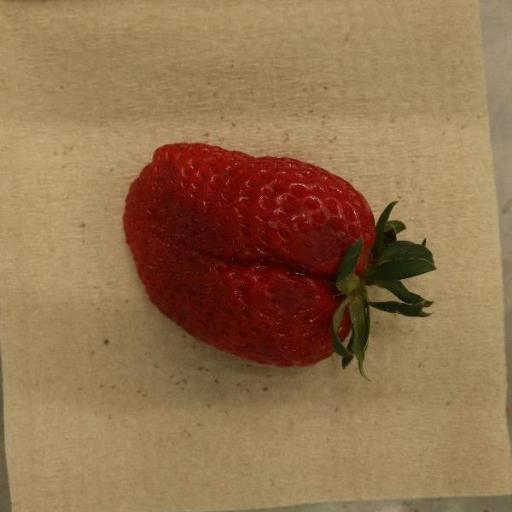Strawberry: (122, 143, 438, 373)
